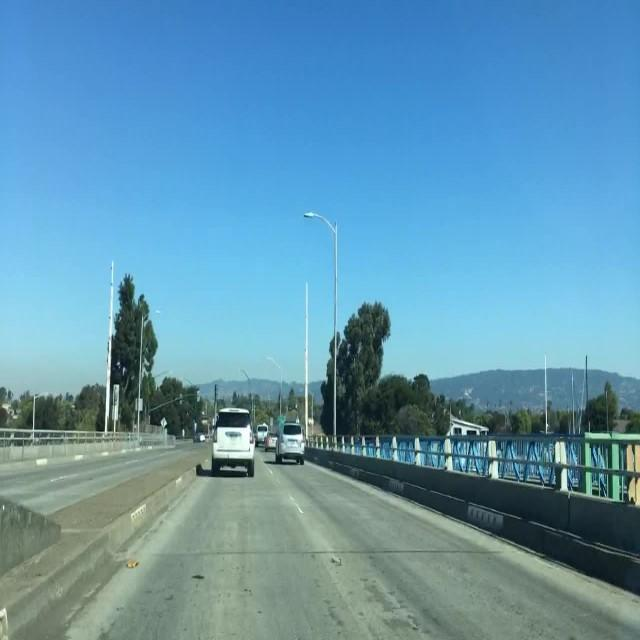normal: (211, 407, 256, 475), (268, 419, 306, 462), (254, 423, 268, 447)
